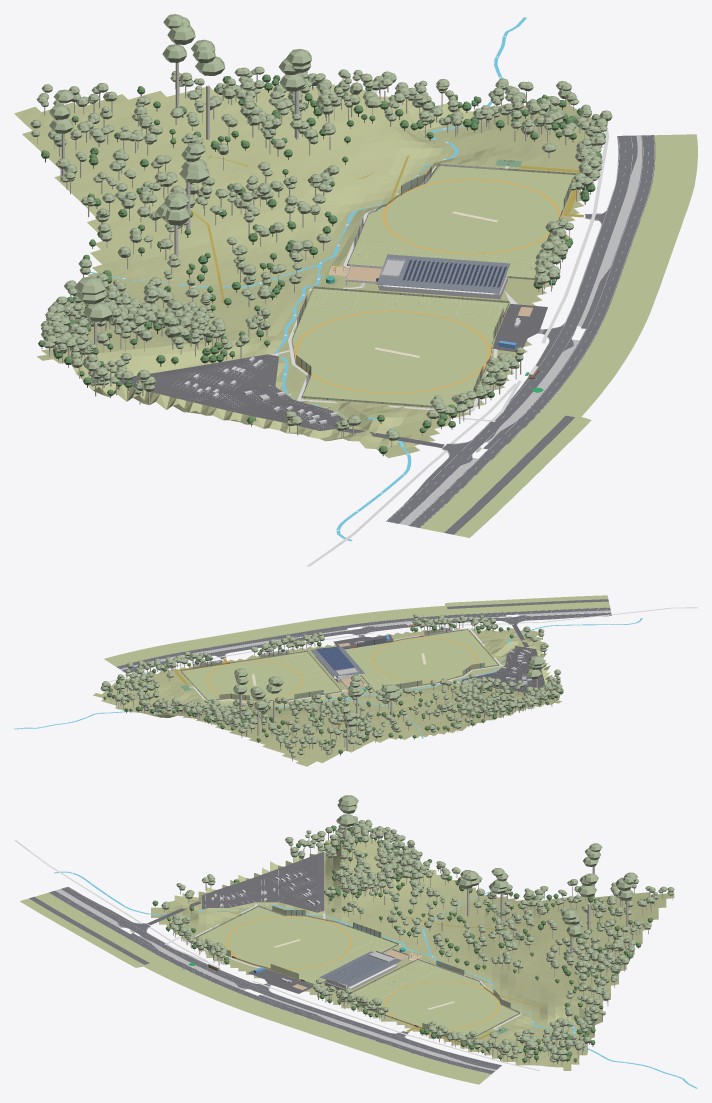
File: KHFR_summer_cricket.glb
The picture shows the model from 3 angles, top to bottom: view 1: azimuth 30°, elevation 25°; view 2: azimuth 150°, elevation 25°; view 3: azimuth 270°, elevation 25°; orthographic projection. The views are drawn at different scales.
Visible parts, largest first — view 1: Reserve terrain, field S flatgrass, Bushland forest (euc_can), Road reserve (far verge), field N flatgrass, Bush planting zones (euc_can), Swansea Rd NE-bound (surveyed both edges), Giant eucalypts (canopies), New car park (~220), Swansea Rd SW-bound (2 lanes, smooth), Tennis precinct bush retained (euc_can), Bushland forest (wat_can) (+15 smaller); view 2: Reserve terrain, Bushland forest (euc_can), field S flatgrass, Road reserve (far verge), field N flatgrass, Bush planting zones (euc_can), Giant eucalypts (canopies), Swansea Rd SW-bound (2 lanes, smooth), Tennis precinct bush retained (euc_can), Swansea Rd NE-bound (surveyed both edges), New car park (~220), Bushland forest (wat_can) (+12 smaller); view 3: Reserve terrain, Bushland forest (euc_can), field S flatgrass, Road reserve (far verge), field N flatgrass, Bush planting zones (euc_can), New car park (~220), Swansea Rd NE-bound (surveyed both edges), Giant eucalypts (canopies), Tennis precinct bush retained (euc_can), Swansea Rd SW-bound (2 lanes, smooth), Bushland forest (wat_can) (+13 smaller).
Boxes of the visible parts, x1,y1,x2,y2 form: Reserve terrain: (14,84,605,457); field S flatgrass: (292,288,509,410); Bushland forest (euc_can): (30,71,399,440); Road reserve (far verge): (420,134,697,537); field N flatgrass: (347,166,575,279); Bush planting zones (euc_can): (215,66,612,414); Swansea Rd NE-bound (surveyed both edges): (386,135,637,523); Giant eucalypts (canopies): (49,14,311,321); New car park (~220): (119,354,352,430); Swansea Rd SW-bound (2 lanes, smooth): (408,135,655,527); Tennis precinct bush retained (euc_can): (40,295,232,385); Bushland forest (wat_can): (41,82,387,453); Reserve terrain: (93,628,561,766); Bushland forest (euc_can): (183,626,561,757); field S flatgrass: (344,629,498,692); Road reserve (far verge): (104,595,609,666); field N flatgrass: (180,651,341,700); Bush planting zones (euc_can): (100,614,496,727); Giant eucalypts (canopies): (233,655,545,726); Swansea Rd SW-bound (2 lanes, smooth): (116,607,610,668); Tennis precinct bush retained (euc_can): (455,676,563,715); Swansea Rd NE-bound (surveyed both edges): (121,612,611,673); New car park (~220): (462,645,544,692); Bushland forest (wat_can): (212,628,553,753); Reserve terrain: (151,831,674,1070); Bushland forest (euc_can): (161,823,674,985); field S flatgrass: (189,906,398,984); Road reserve (far verge): (20,892,490,1084); field N flatgrass: (345,960,519,1042); Bush planting zones (euc_can): (169,914,635,1062); New car park (~220): (202,852,324,912); Swansea Rd NE-bound (surveyed both edges): (61,887,501,1069); Giant eucalypts (canopies): (337,795,637,937); Tennis precinct bush retained (euc_can): (298,816,417,894); Swansea Rd SW-bound (2 lanes, smooth): (49,890,494,1074); Bushland forest (wat_can): (152,827,652,984).
Bounding box in the file's own units: 495 × 86.35 × 604.
